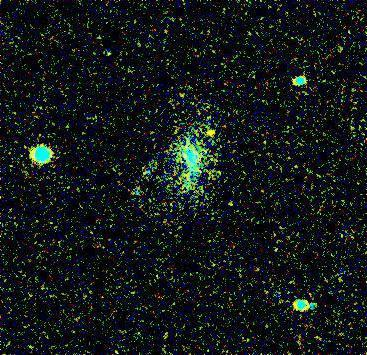star: (197, 117, 227, 147)
